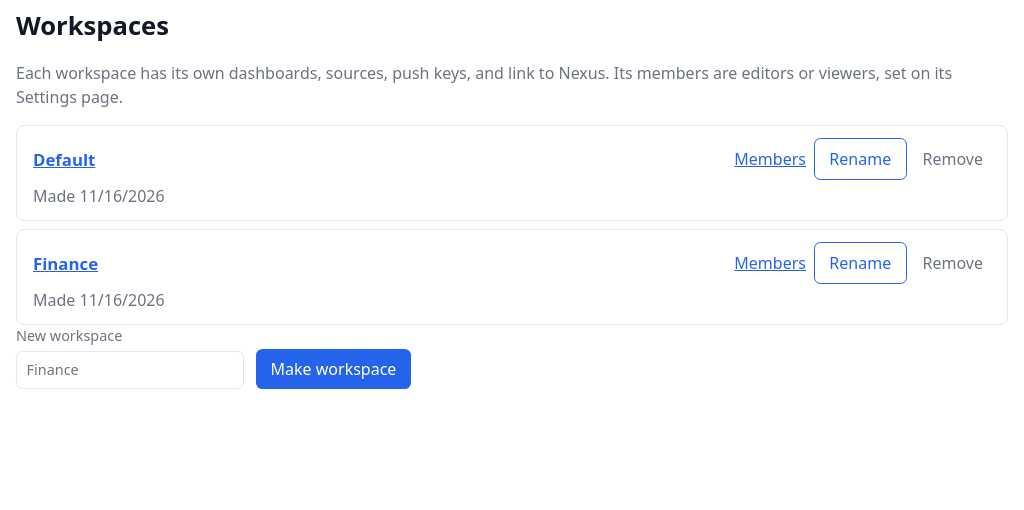
Test: makes a workspace, and tells the header its list changed
Type "Budget" into the field labelled "New workspace".
click(130, 370); type("Budget")  # box [16, 351, 244, 389]
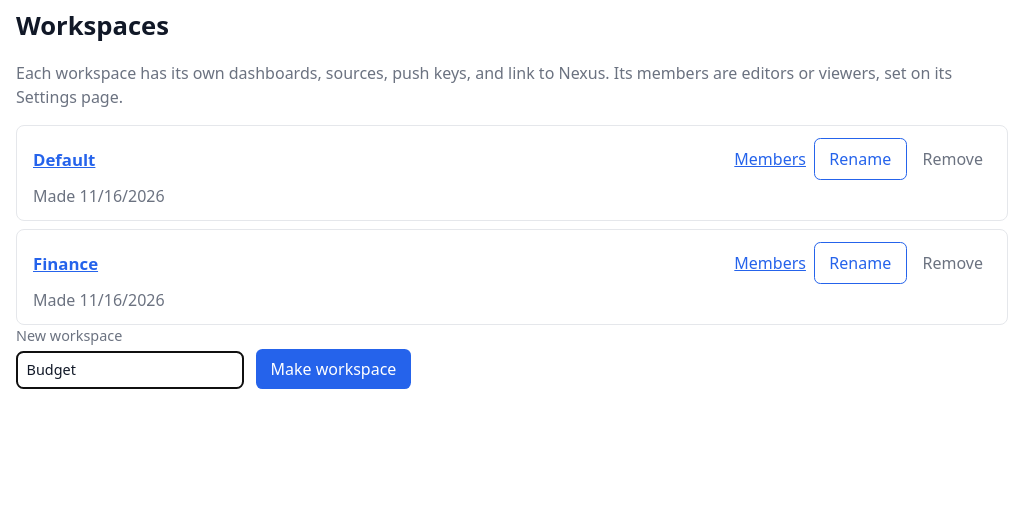
Click the button "Make workspace".
click(334, 369)  # box [256, 349, 411, 389]
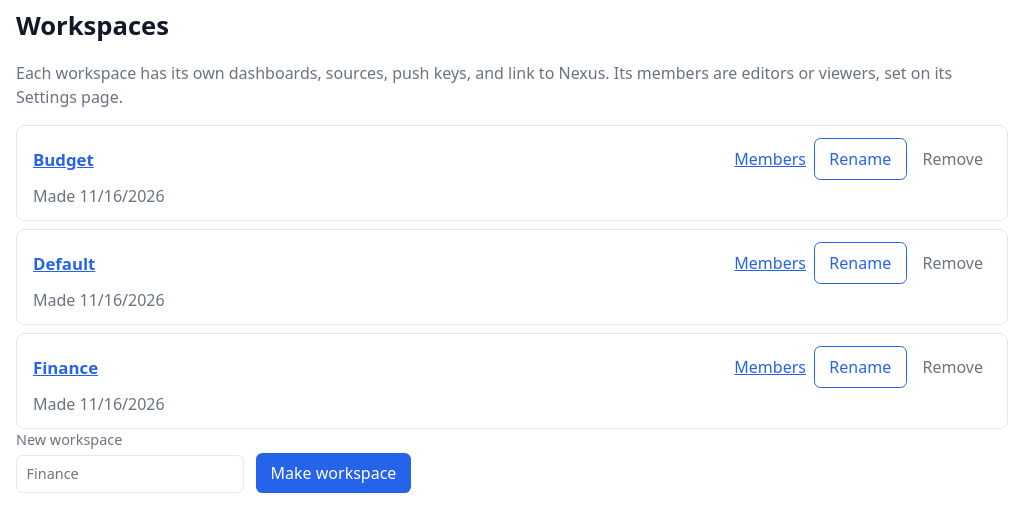
Expected: the link "Budget" is shown, [33, 148, 94, 171]
